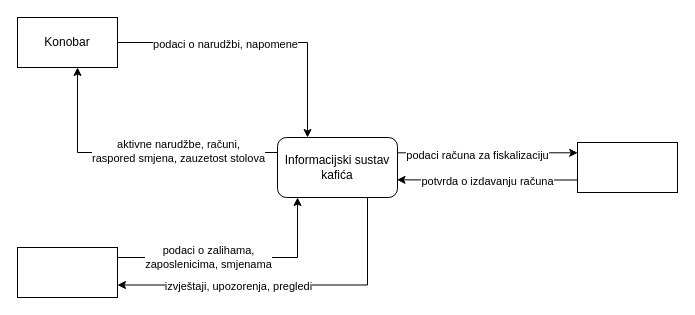
Some shapes in this 695 by 315 pixel diagram are drawn without their labels. The centre of each missing label's shape, as x and y in pixels:
Administrator: [67,272]
Uređaj za fiskalizaciju: [627,167]
